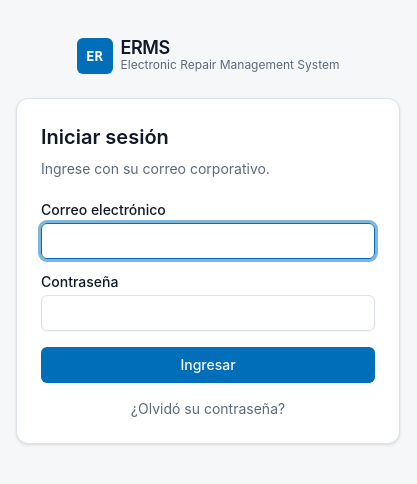
LoginPage › validates fields before calling the API
Type "no-es-correo" into the field labelled "Correo electrónico" at coordinates (208, 241), box [41,223,375,259]
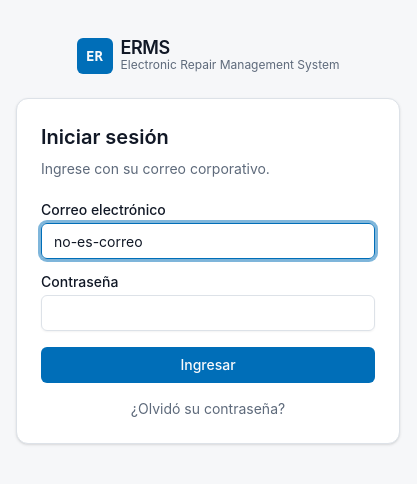
Click the button "Ingresar" at coordinates (208, 365), box [41,347,375,383]
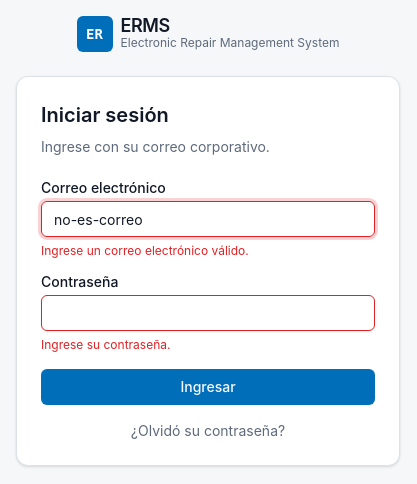
Now the text "Ingrese un correo electrónico válido." is shown, box [41,243,249,258]
Now the text "Ingrese su contraseña." is shown, box [41,337,170,352]
